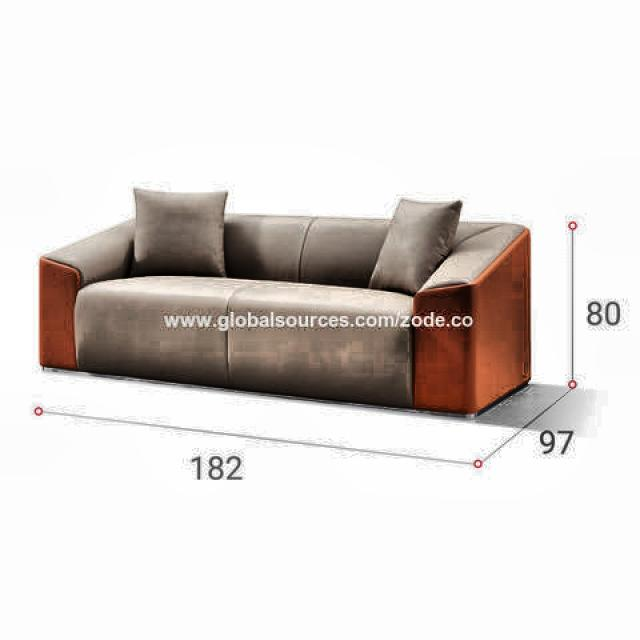sofa: (37, 192, 532, 419)
